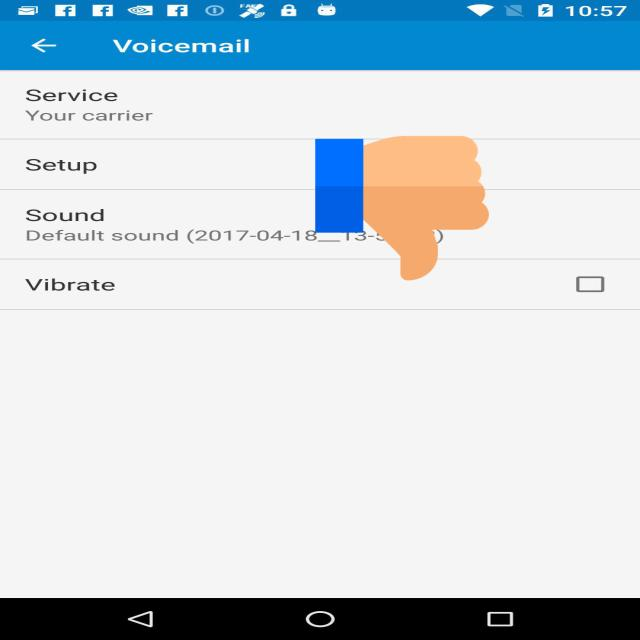obstruction: (315, 132, 489, 284)
